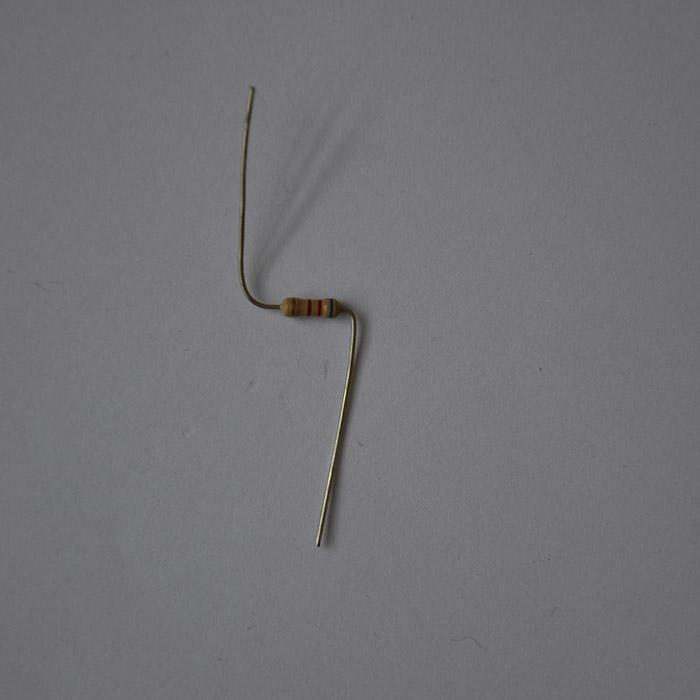resistor: (279, 296, 337, 318)
